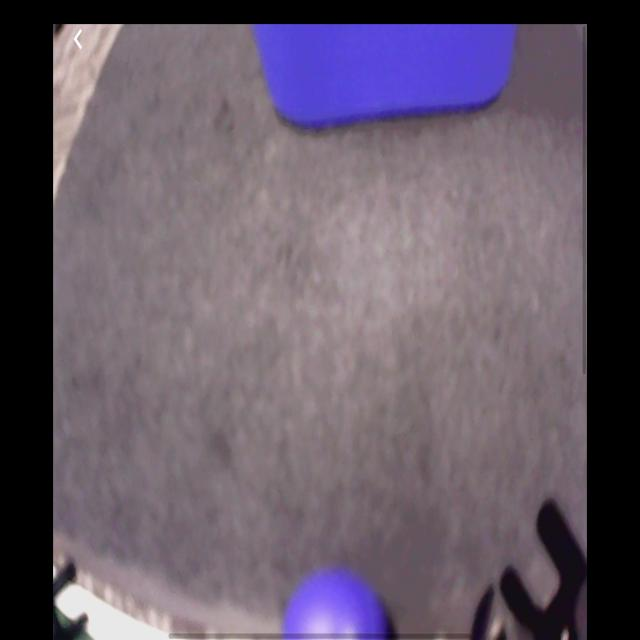ball: (286, 572, 392, 640)
